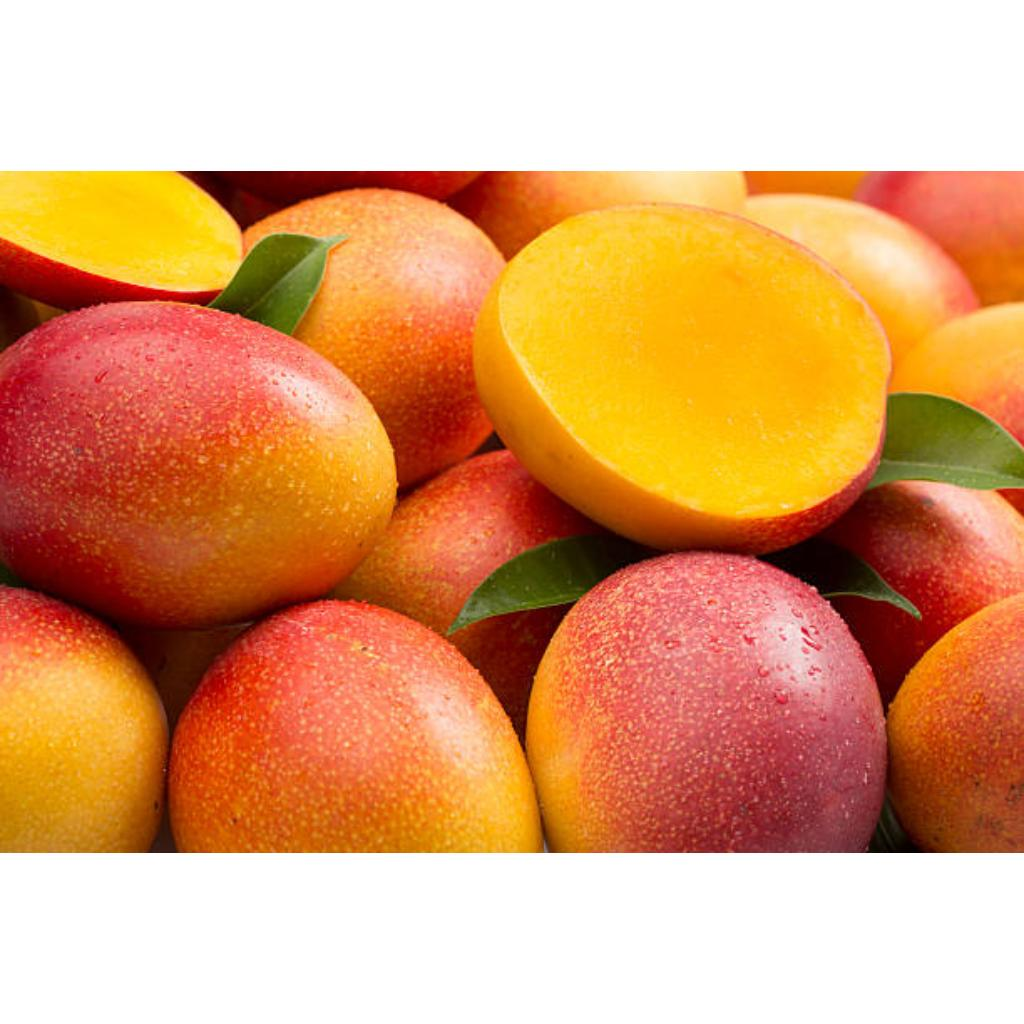mango: (474, 203, 890, 554), (0, 303, 396, 629), (528, 553, 886, 852), (168, 601, 542, 853), (332, 451, 604, 740), (244, 189, 504, 488), (822, 481, 1024, 704), (0, 589, 168, 852), (886, 593, 1024, 852)
